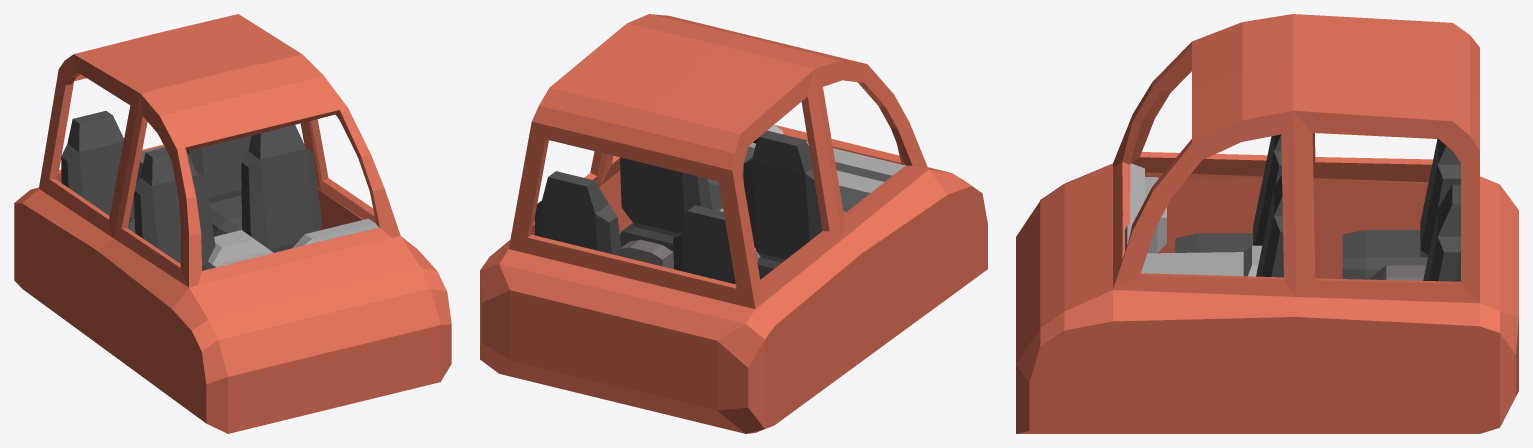
The model's file is low poly car.glb.
3 views of the same model, side by side, from view 1: azimuth 30°, elevation 25°; view 2: azimuth 150°, elevation 25°; view 3: azimuth 270°, elevation 25° (orthographic). The views are drawn at different scales.
Visible parts, largest first — view 1: frame, front seats, back seats, counter; view 2: frame, front seats, back seats, counter; view 3: frame, back seats, front seats, counter.
Part boxes in pixels (<box>): frame: <box>14,14,451,433</box>; front seats: <box>134,125,322,270</box>; back seats: <box>61,111,251,236</box>; counter: <box>206,218,378,269</box>; frame: <box>480,14,987,433</box>; front seats: <box>620,130,822,279</box>; back seats: <box>534,171,760,284</box>; counter: <box>707,125,905,261</box>; frame: <box>1016,14,1518,433</box>; back seats: <box>1342,139,1460,281</box>; front seats: <box>1175,134,1283,277</box>; counter: <box>1125,163,1261,276</box>.
Size of the model in its own units: 1.96 by 1.93 by 2.84.
